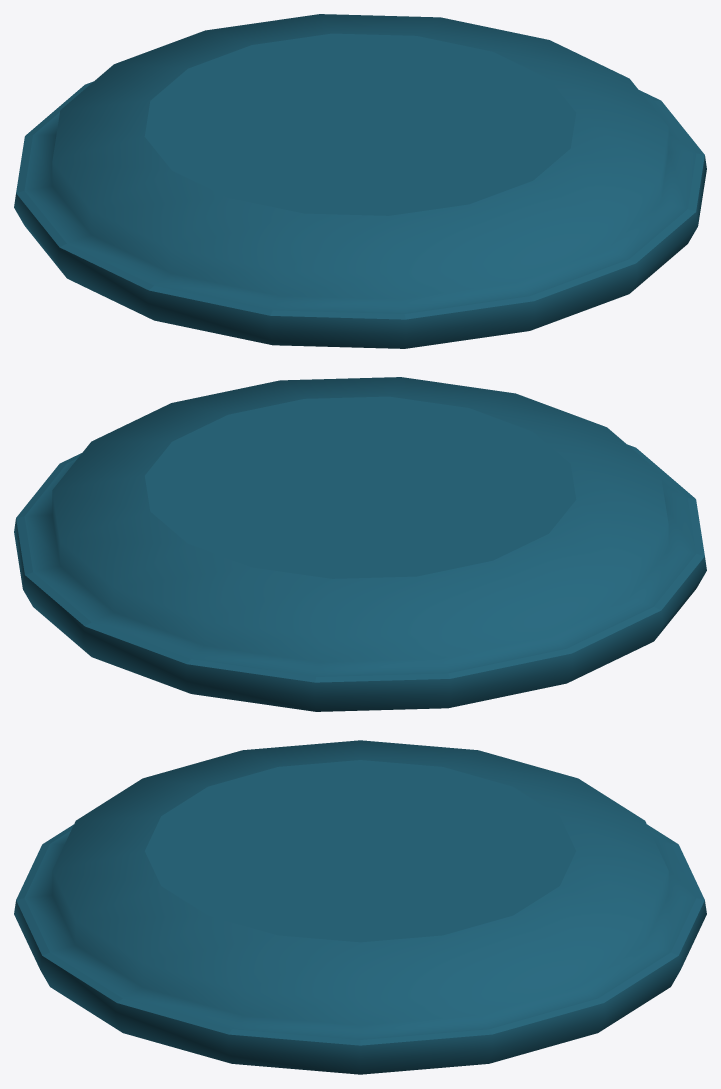
File: disc.fbx
3 renders of one model, top to bottom at view 1: azimuth 30°, elevation 25°; view 2: azimuth 150°, elevation 25°; view 3: azimuth 270°, elevation 25°, orthographic.
Visible parts, largest first — view 1: disc3; view 2: disc3; view 3: disc3.
Boxes of the visible parts, x1,y1,x2,y2 form: disc3: (14, 14, 706, 348); disc3: (14, 377, 706, 711); disc3: (14, 740, 706, 1074).
Size of the model in its own units: 195 by 25.27 by 195.
